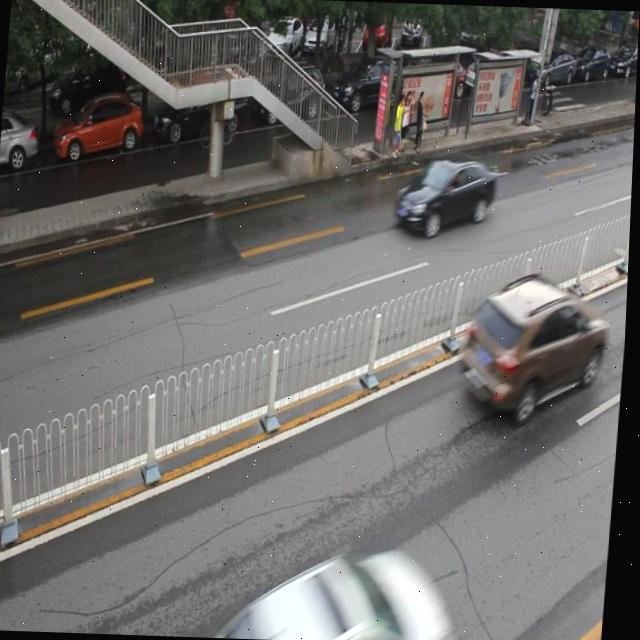car: (219, 541, 461, 640), (459, 272, 611, 424), (393, 156, 500, 236), (51, 92, 147, 160), (150, 78, 250, 142), (329, 56, 407, 118), (254, 65, 326, 128), (0, 108, 42, 174)
